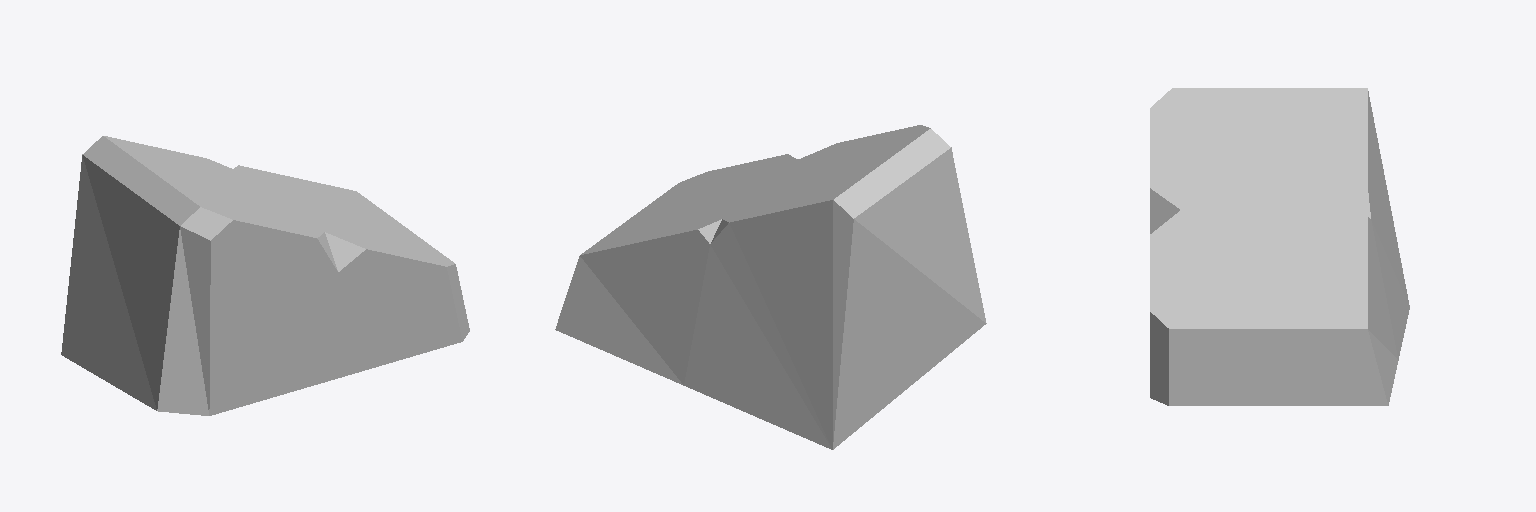
Rendered from landmark--ramp.obj.
The picture shows the model from 3 angles: view 1: azimuth 30°, elevation 25°; view 2: azimuth 150°, elevation 25°; view 3: azimuth 270°, elevation 25°; orthographic projection.
Parts seen in each view (by area): view 1: ramp_Cube.018; view 2: ramp_Cube.018; view 3: ramp_Cube.018.
Part boxes in pixels (bbox=[...]): ramp_Cube.018: bbox=[61, 136, 469, 415]; ramp_Cube.018: bbox=[555, 125, 986, 449]; ramp_Cube.018: bbox=[1150, 88, 1409, 405].
Size of the model in its own units: 3.36 by 2.33 by 2.39.